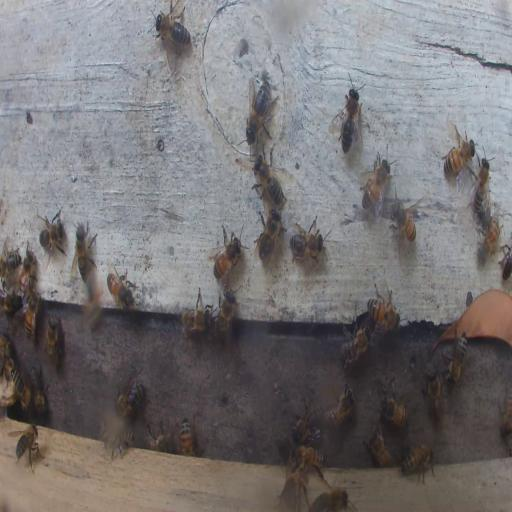bee: (330, 78, 364, 151), (360, 149, 393, 218), (154, 0, 191, 56), (252, 151, 287, 207), (246, 79, 278, 140), (211, 224, 244, 280), (444, 126, 476, 180), (388, 194, 421, 246), (254, 206, 283, 264), (72, 220, 97, 285), (288, 216, 324, 260), (81, 272, 105, 335), (13, 424, 43, 473), (399, 443, 434, 485), (38, 208, 66, 258), (443, 332, 468, 386), (422, 370, 446, 424), (340, 324, 370, 367), (181, 294, 213, 334), (326, 385, 354, 429), (476, 214, 500, 265), (6, 360, 30, 410), (107, 268, 135, 310), (292, 402, 320, 444), (114, 378, 144, 416), (213, 291, 235, 342), (473, 157, 491, 218), (366, 428, 394, 467), (278, 472, 308, 508), (367, 298, 399, 331), (379, 392, 408, 428), (104, 426, 134, 458), (45, 314, 63, 367), (290, 447, 324, 473), (18, 247, 35, 298), (31, 362, 47, 416), (312, 489, 350, 511), (24, 292, 40, 337), (1, 246, 20, 278), (502, 382, 512, 442), (146, 427, 170, 451), (178, 418, 194, 454), (0, 289, 22, 312), (500, 244, 512, 280), (0, 334, 10, 366)
